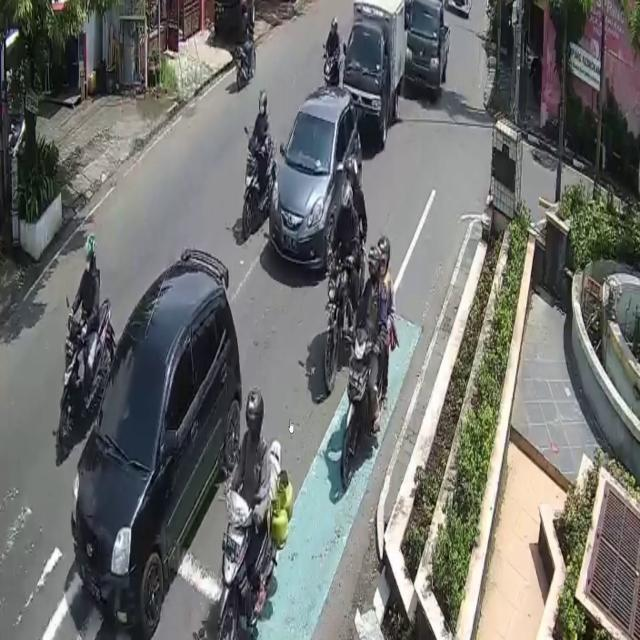bus: (217, 437, 283, 640), (60, 300, 115, 444), (345, 330, 375, 468), (242, 134, 277, 234), (324, 255, 349, 394)
motorcycle: (70, 247, 241, 640), (271, 85, 360, 268), (405, 0, 450, 96)
truck: (343, 0, 405, 146)
